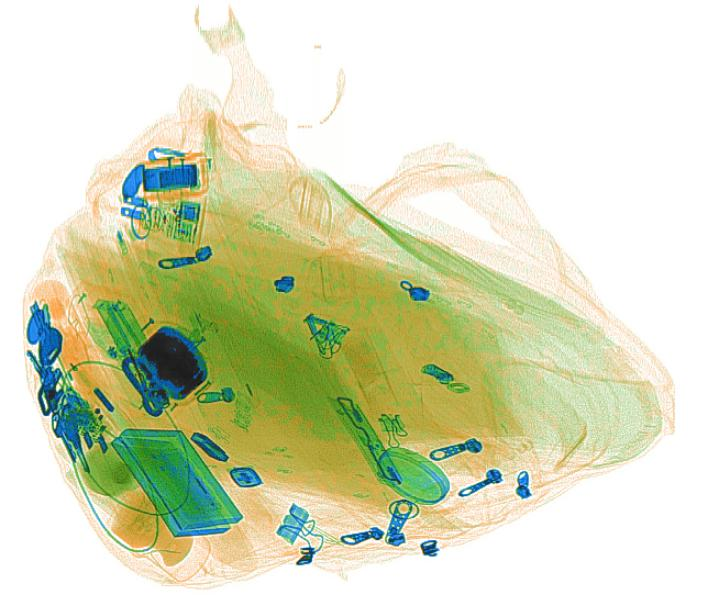seal: (107, 488, 194, 566), (74, 443, 145, 495)
